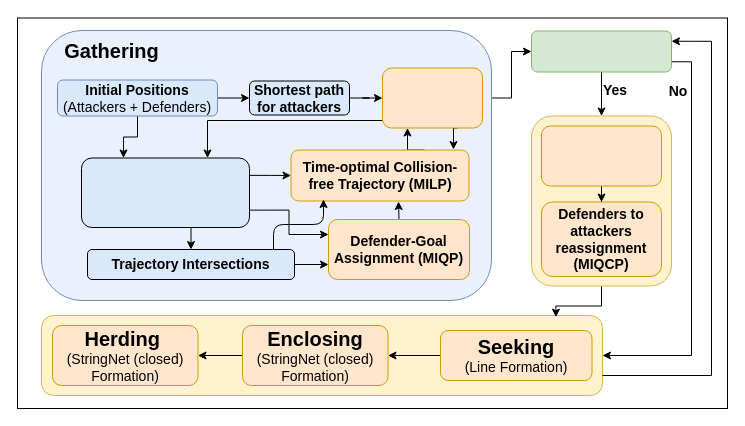
Image size: 745x426. Some labels were removed from this diagram. The shapes that lost their labels are listed below. From the top down, each one's box as (x1, y1, x2, y2) in pixels, then its label:
(530, 30, 672, 72): Attackers split?
(382, 67, 482, 128): Desired Open Formation
(540, 125, 662, 186): Attackers' cluster identification
(80, 157, 250, 228): Time-Optimal Trajectories (Shortest Path + Time-optimal Velocity)
